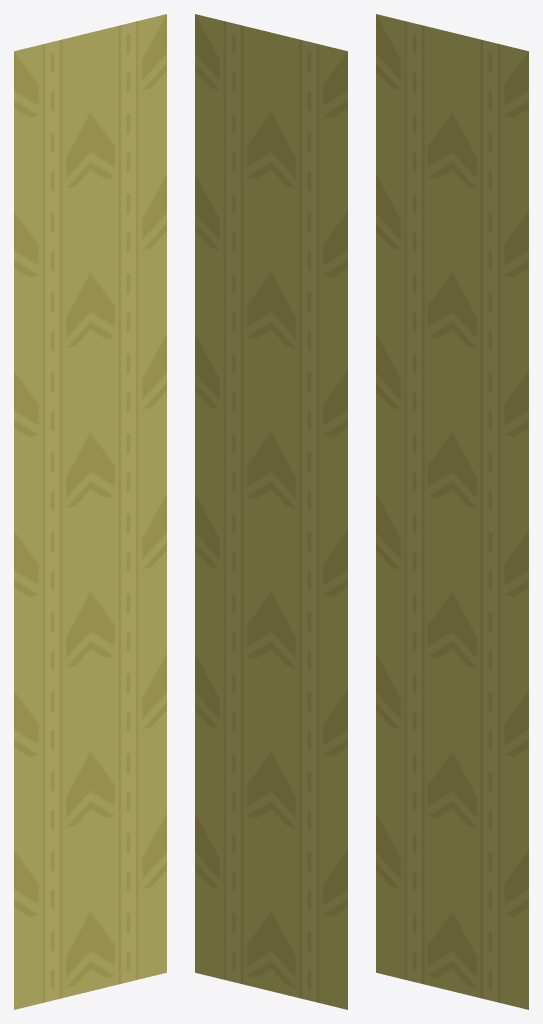
Rendered from Wall Tile Mesh.fbx.
3 views of the same model, side by side, from view 1: azimuth 30°, elevation 25°; view 2: azimuth 150°, elevation 25°; view 3: azimuth 330°, elevation 25° (orthographic).
Visible parts, largest first — view 1: Wall Unit; view 2: Wall Unit; view 3: Wall Unit.
Part boxes in pixels (<box>): Wall Unit: <box>14,14,166,1009</box>; Wall Unit: <box>195,14,347,1009</box>; Wall Unit: <box>376,14,528,1009</box>.
Bounding box in the file's own units: 50 × 300 × 0.000611.
Materials: 1 (1 with a texture image).
